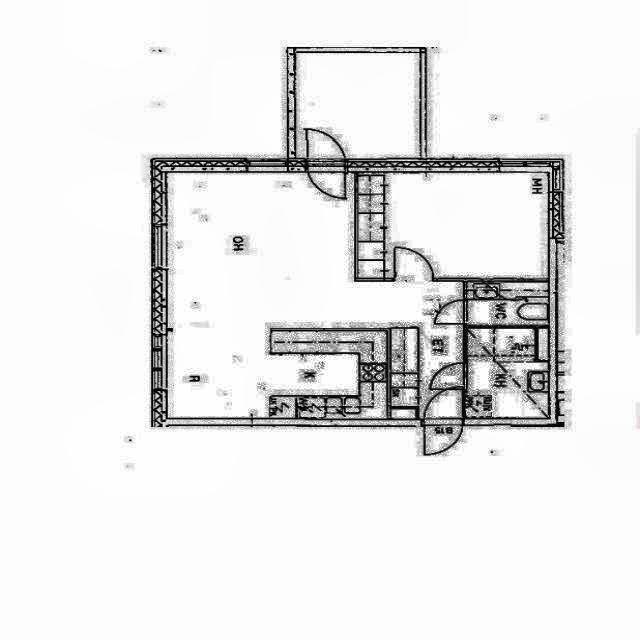room: (358, 172, 548, 279), (465, 328, 549, 418), (467, 281, 549, 325)
